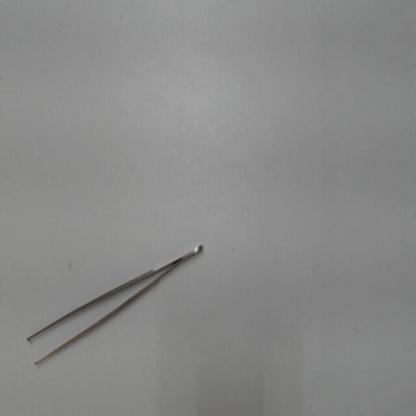Gillies Toothed Dissector: (23, 239, 210, 379)
